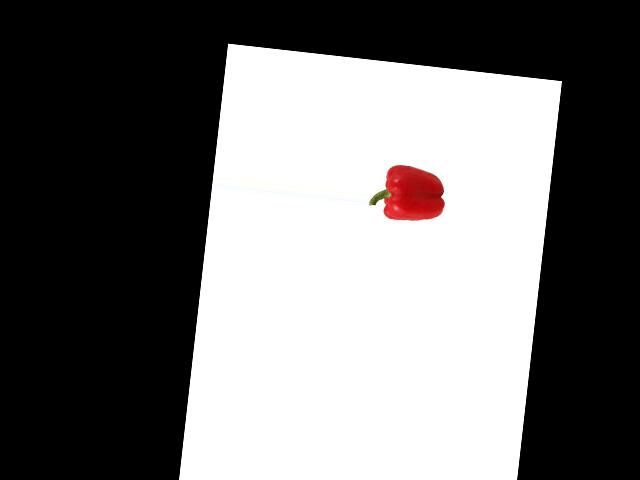bell_pepper: (368, 154, 449, 227)
